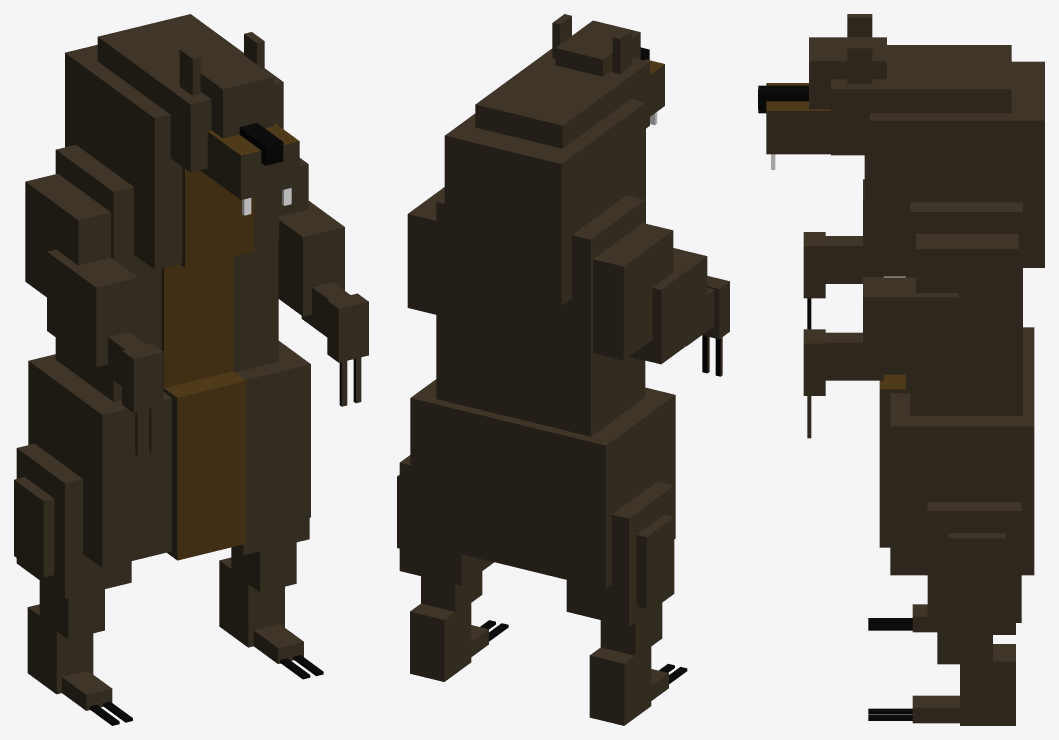
Rendered from bear.FBX.
3 renders of one model, left to right at view 1: azimuth 30°, elevation 25°; view 2: azimuth 150°, elevation 25°; view 3: azimuth 270°, elevation 25°, orthographic. The views are drawn at different scales.
Parts seen in each view (by area): view 1: Box02; view 2: Box02; view 3: Box02.
Part boxes in pixels (<box>): Box02: <box>14,14,368,725</box>; Box02: <box>397,14,729,725</box>; Box02: <box>758,14,1044,725</box>.
Size of the model in its own units: 36.67 by 86.76 by 35.18.
